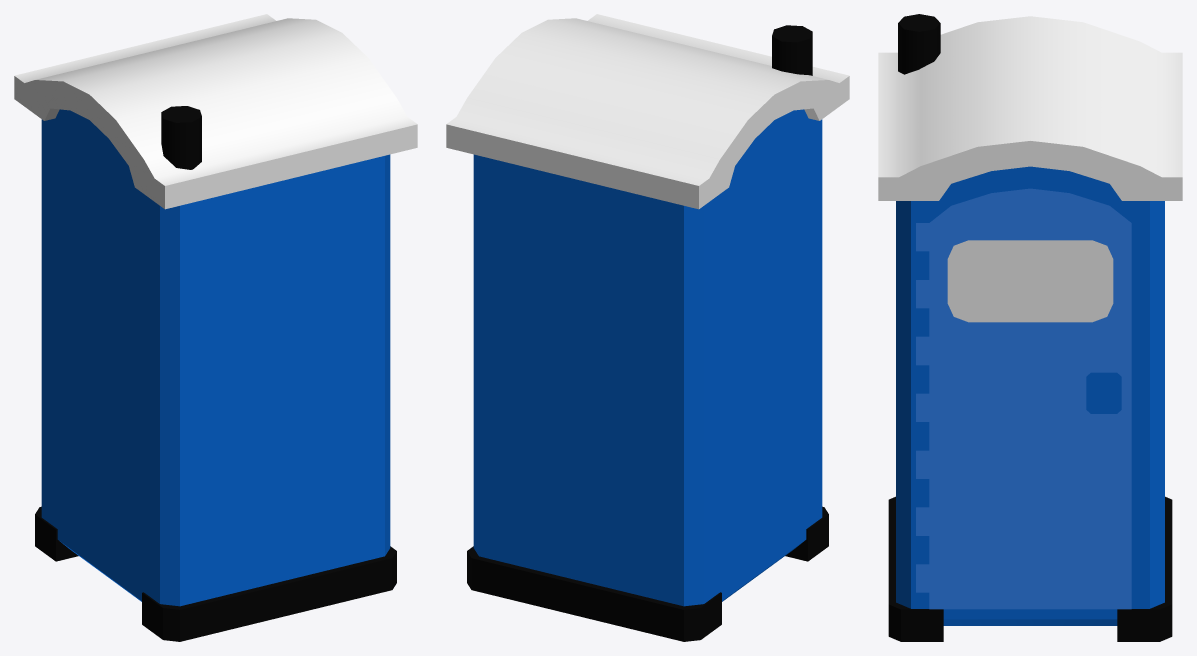
The model's file is potty.glb.
3 views of the same model, side by side, from view 1: azimuth 30°, elevation 25°; view 2: azimuth 150°, elevation 25°; view 3: azimuth 270°, elevation 25° (orthographic).
Visible parts, largest first — view 1: Cube, Cube.001, Cube.006, Cylinder, Cube.002; view 2: Cube, Cube.001, Cube.006, Cylinder, Cube.002; view 3: Cube.003, Cube.001, Cube, Cube.005, Cube.006, Cube.002, Cube.004, Cylinder.
Part boxes in pixels (<box>): Cube: <box>41,118,390,606</box>; Cube.001: <box>14,14,417,209</box>; Cube.006: <box>35,506,396,641</box>; Cylinder: <box>161,106,201,169</box>; Cube.002: <box>55,109,130,173</box>; Cube: <box>473,118,822,606</box>; Cube.001: <box>446,14,849,209</box>; Cube.006: <box>467,506,828,641</box>; Cylinder: <box>772,25,812,75</box>; Cube.002: <box>733,109,808,173</box>; Cube.003: <box>929,188,1131,609</box>; Cube.001: <box>878,16,1182,200</box>; Cube: <box>896,195,1164,625</box>; Cube.005: <box>947,240,1121,413</box>; Cube.006: <box>888,496,1172,641</box>; Cube.002: <box>943,166,1117,195</box>; Cube.004: <box>916,223,929,592</box>; Cylinder: <box>898,14,940,74</box>.
Size of the model in its own units: 0.5159 by 0.9988 by 0.5328.
